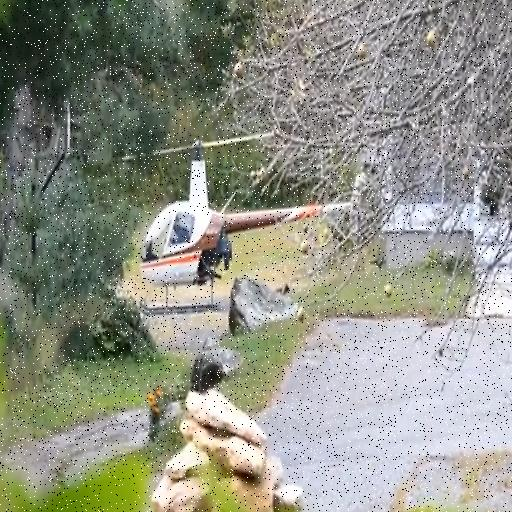helicopter: (124, 131, 371, 317)
